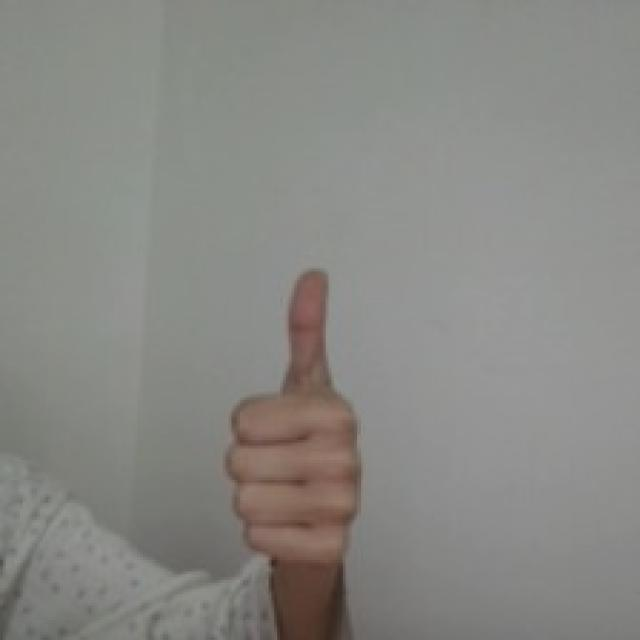fine: (217, 258, 376, 570)
